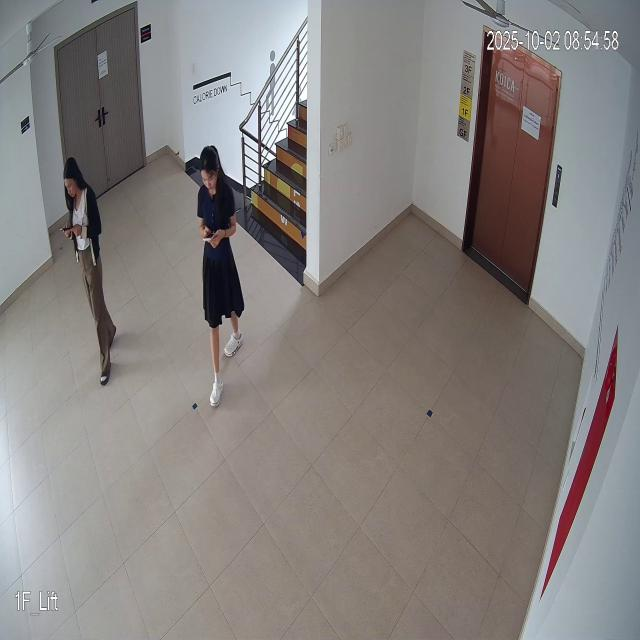face: (199, 142, 223, 200), (62, 152, 82, 205)
